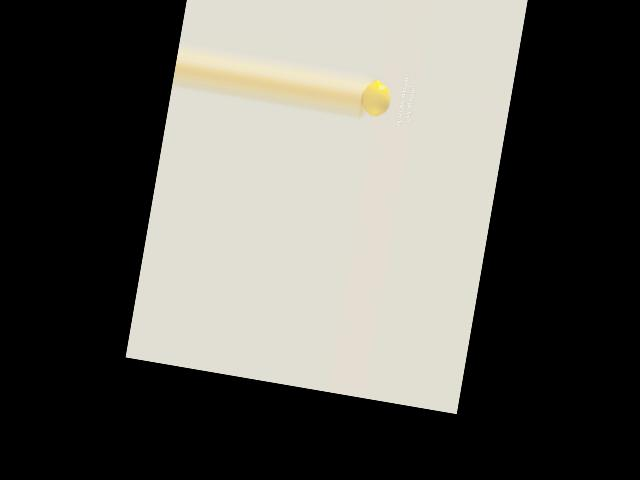lemon: (360, 78, 395, 120)
